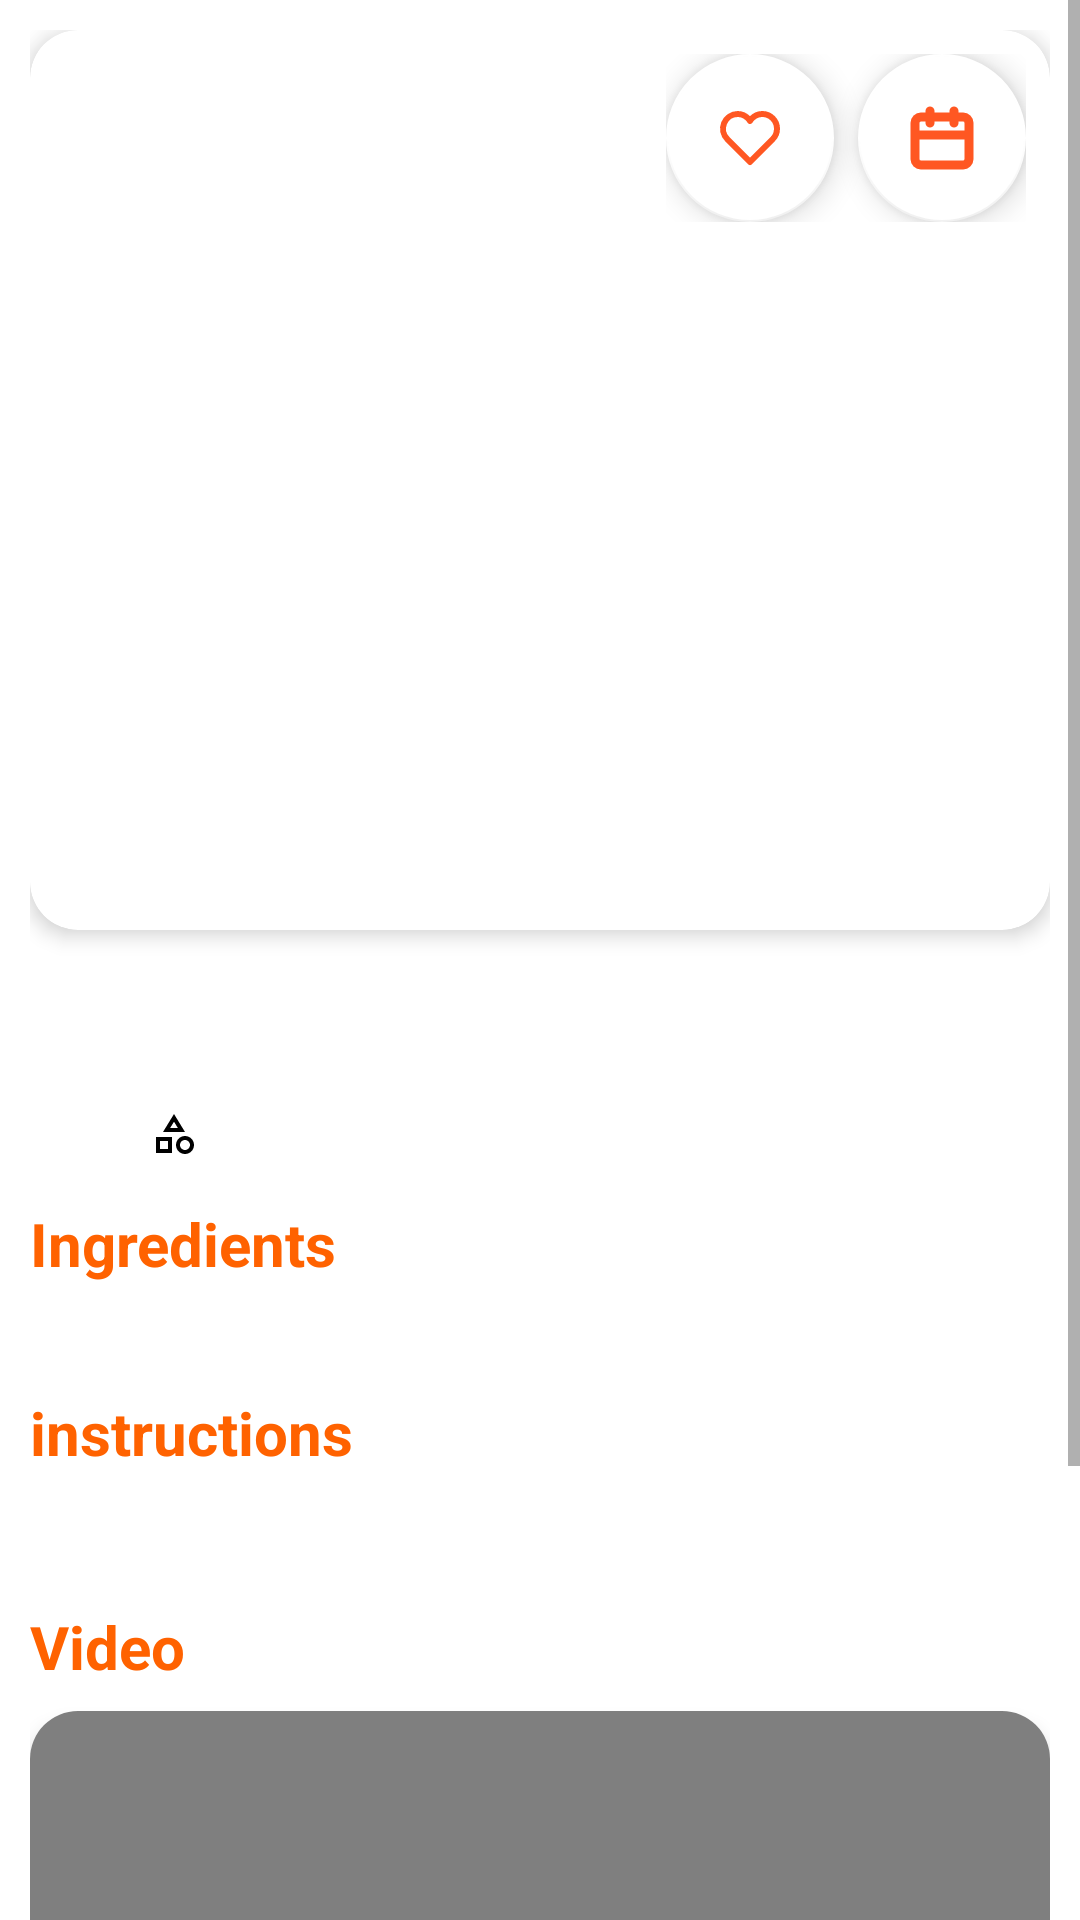

Icon click points for this 1080px×1920px phone screenshot, format (x=x, y=y):
category: (x=175, y=1134)
Schedule meal: (x=968, y=144)
Toggle favorite: (x=777, y=160)
